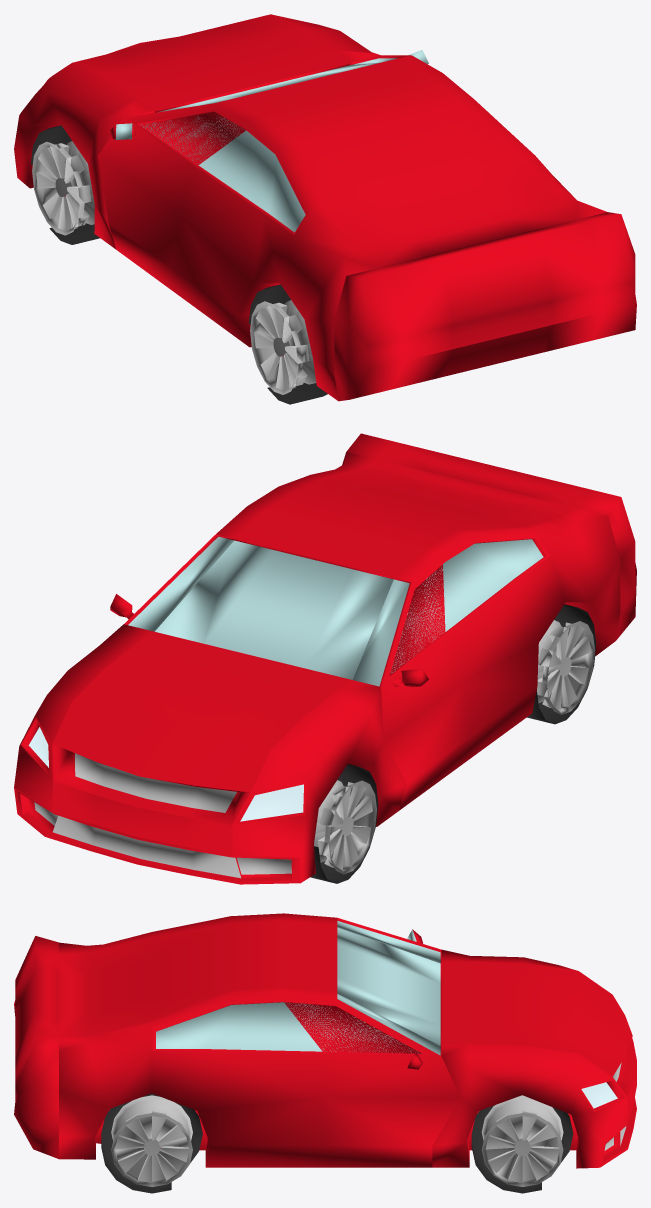
File: mobil.glb
3 views of the same model, one above another, from view 1: azimuth 30°, elevation 25°; view 2: azimuth 150°, elevation 25°; view 3: azimuth 270°, elevation 25° (orthographic). The views are drawn at different scales.
Visible parts, largest first — view 1: Cube; view 2: Cube; view 3: Cube.
Part boxes in pixels (box(x1,y1,x2,y2)): Cube: box(14, 14, 636, 404); Cube: box(14, 433, 636, 884); Cube: box(14, 913, 636, 1193).
Bounding box in the file's own units: 2.18 × 1.4 × 4.41.
